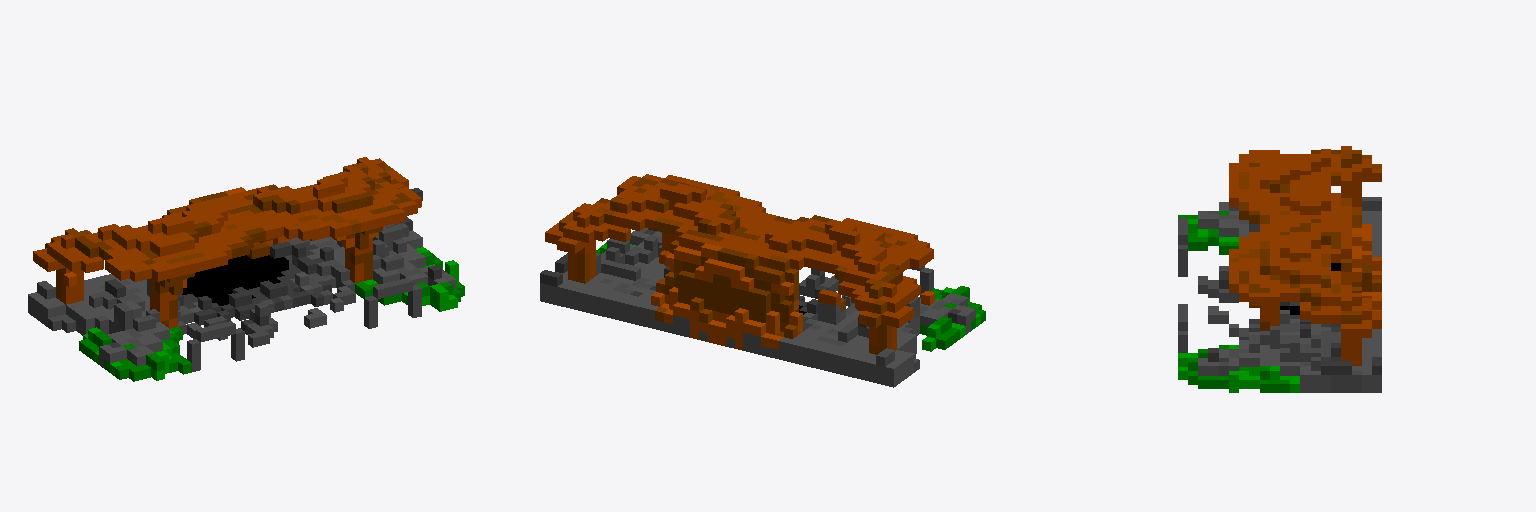
3 views of the same model, side by side, from view 1: azimuth 30°, elevation 25°; view 2: azimuth 150°, elevation 25°; view 3: azimuth 270°, elevation 25° (orthographic).
Parts seen in each view (by area): view 1: object 1; view 2: object 1; view 3: object 1.
Part boxes in pixels (x1,y1,x2,y2): object 1: (28,157,464,381); object 1: (540,174,985,387); object 1: (1178,146,1381,392).
Bounding box in the file's own units: 4 × 1.1 × 2.
1 materials, 1 textured.